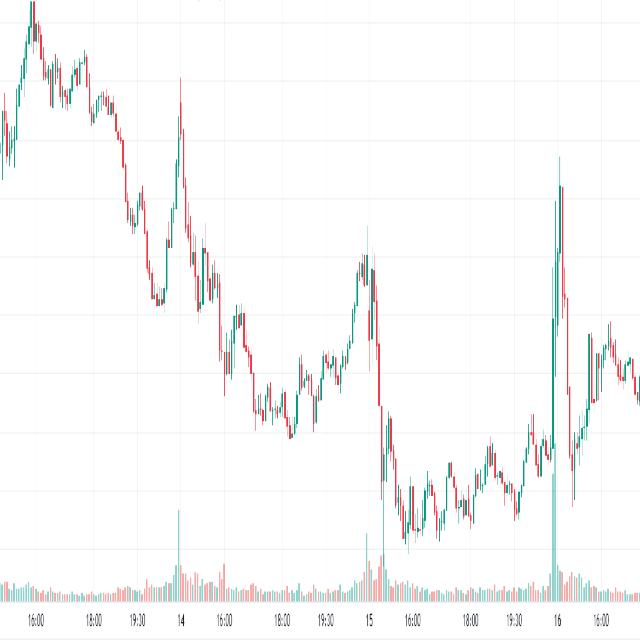Channel-up: (383, 404, 562, 578)
Double-Top: (198, 222, 223, 344)
Head-Shoulders: (519, 165, 617, 532), (316, 226, 400, 508), (0, 0, 65, 202), (156, 75, 204, 338), (568, 154, 568, 158)
Rounding-Bottom: (178, 79, 380, 445)
